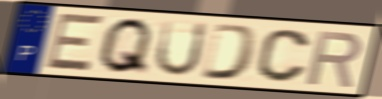C: (254, 27, 313, 84)
D: (198, 21, 261, 83)
E: (43, 11, 107, 73)
Q: (95, 16, 155, 77)
R: (304, 29, 365, 89)
U: (152, 18, 211, 78)
